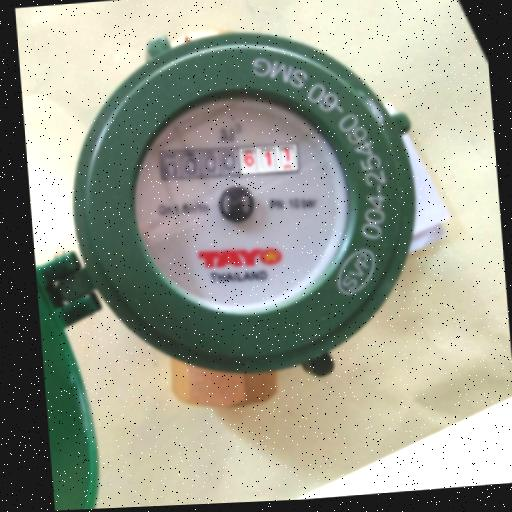0: (162, 152, 178, 177), (201, 150, 217, 174), (181, 152, 197, 175), (220, 149, 235, 173)
1: (278, 146, 293, 169), (259, 149, 275, 170)
6: (241, 150, 257, 171)
border_water_meter_number: (158, 139, 299, 183)
